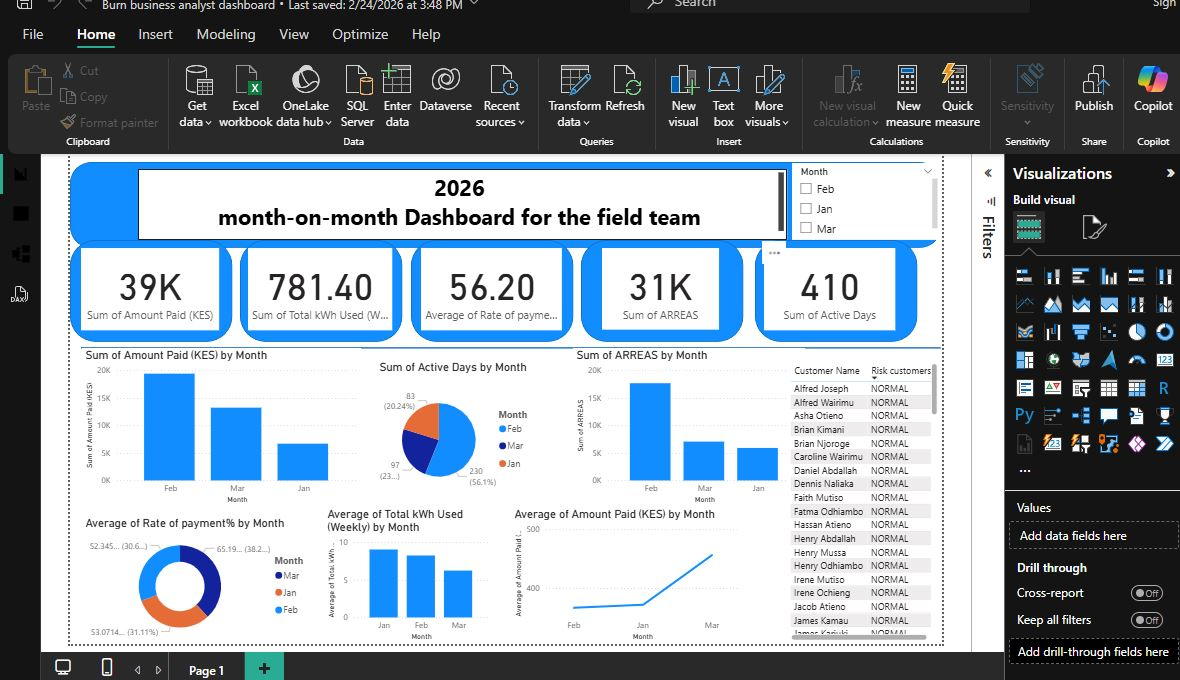

What the dashboard file says about the page in this screenshot:
{"tool":"powerbi","page":{"name":"Page 1","canvas":[1280,720],"ordinal":0},"visuals":[{"type":"shape","box":[0,11.8,1279.8,126.4],"z":0},{"type":"shape","box":[0,126,238.5,149.5],"z":1000},{"type":"shape","box":[250.3,126,238.5,149.5],"z":2000},{"type":"shape","box":[500.6,126,238.5,149.5],"z":3000},{"type":"shape","box":[750.9,126,238.5,149.5],"z":4000},{"type":"shape","box":[1006.2,126,238.5,149.5],"z":5000},{"type":"card","fields":{"Values":["Sum(Data.Amount Paid (KES))"]},"box":[16.8,137.7,203.3,120.9],"z":6000},{"type":"card","fields":{"Values":["Sum(Data.Total kWh Used (Weekly))"]},"box":[262,137.7,211.7,120.9],"z":7000},{"type":"card","fields":{"Values":["Avg(Data.Rate of payment%)"]},"box":[515.7,137.7,206.6,120.9],"z":8000},{"type":"card","fields":{"Values":["Sum(Data.ARREAS)"]},"box":[781.7,138.1,171.9,120.5],"z":9000},{"type":"card","fields":{"Values":["Sum(Data.Active Days)"]},"box":[1019.6,137.7,193.2,120.9],"z":10000},{"type":"shape","box":[16.8,210,1263.2,149.5],"z":11000},{"type":"clusteredColumnChart","fields":{"Category":["Data.Month"],"Y":["Sum(Data.Amount Paid (KES))"]},"box":[17.6,285.1,410,233.6],"z":12000},{"type":"pieChart","fields":{"Category":["Data.Month"],"Y":["Sum(Data.Active Days)"]},"box":[449.6,302.7,246.9,216],"z":13000},{"type":"clusteredColumnChart","fields":{"Category":["Data.Month"],"Y":["Sum(Data.ARREAS)"]},"box":[739.1,285.1,340.9,233.6],"z":14000},{"type":"donutChart","fields":{"Y":["Avg(Data.Rate of payment%)"],"Category":["Data.Month"]},"box":[17.6,531.9,349.7,188.1],"z":15000},{"type":"clusteredColumnChart","fields":{"Category":["Data.Month"],"Y":["Avg(Data.Total kWh Used (Weekly))"]},"box":[373.2,518.7,246.9,201.3],"z":16000},{"type":"lineChart","fields":{"Category":["Data.Month"],"Y":["Avg(Data.Amount Paid (KES))"]},"box":[648,518.7,340.9,201.3],"z":17000},{"type":"textbox","box":[989,519,291,201],"z":18000},{"type":"textbox","box":[1080,360,200,159],"z":19000},{"type":"textbox","box":[99.9,22,953.6,104.3],"z":20000},{"type":"tableEx","fields":{"Values":["Data.Customer Name","Data.Risk customers "]},"box":[1053.6,302.7,226.3,417.3],"z":21000},{"type":"slicer","fields":{"Values":["Data.Month"]},"box":[1060.9,13.2,218.9,113.1],"z":22000}]}

Visuals, with their boxes on the page's 1280x720 design canvas (x1, y1, x2, y2). These are canvas units, not pixel positions in the 1180x680 screenshot, which may show the page scaled, cropped or inside an application window:
shape: 0, 12, 1280, 138
shape: 0, 126, 238, 276
shape: 250, 126, 489, 276
shape: 501, 126, 739, 276
shape: 751, 126, 989, 276
shape: 1006, 126, 1245, 276
card - Sum(Data.Amount Paid (KES)): 17, 138, 220, 259
card - Sum(Data.Total kWh Used (Weekly)): 262, 138, 474, 259
card - Avg(Data.Rate of payment%): 516, 138, 722, 259
card - Sum(Data.ARREAS): 782, 138, 954, 259
card - Sum(Data.Active Days): 1020, 138, 1213, 259
shape: 17, 210, 1280, 360
clusteredColumnChart - Data.Month x Sum(Data.Amount Paid (KES)): 18, 285, 428, 519
pieChart - Data.Month x Sum(Data.Active Days): 450, 303, 696, 519
clusteredColumnChart - Data.Month x Sum(Data.ARREAS): 739, 285, 1080, 519
donutChart - Avg(Data.Rate of payment%) x Data.Month: 18, 532, 367, 720
clusteredColumnChart - Data.Month x Avg(Data.Total kWh Used (Weekly)): 373, 519, 620, 720
lineChart - Data.Month x Avg(Data.Amount Paid (KES)): 648, 519, 989, 720
textbox: 989, 519, 1280, 720
textbox: 1080, 360, 1280, 519
textbox: 100, 22, 1054, 126
tableEx - Data.Customer Name x Data.Risk customers : 1054, 303, 1280, 720
slicer - Data.Month: 1061, 13, 1280, 126
